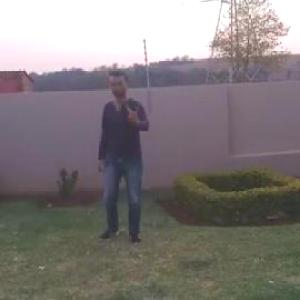takeoff-hand: (119, 96, 151, 134)
